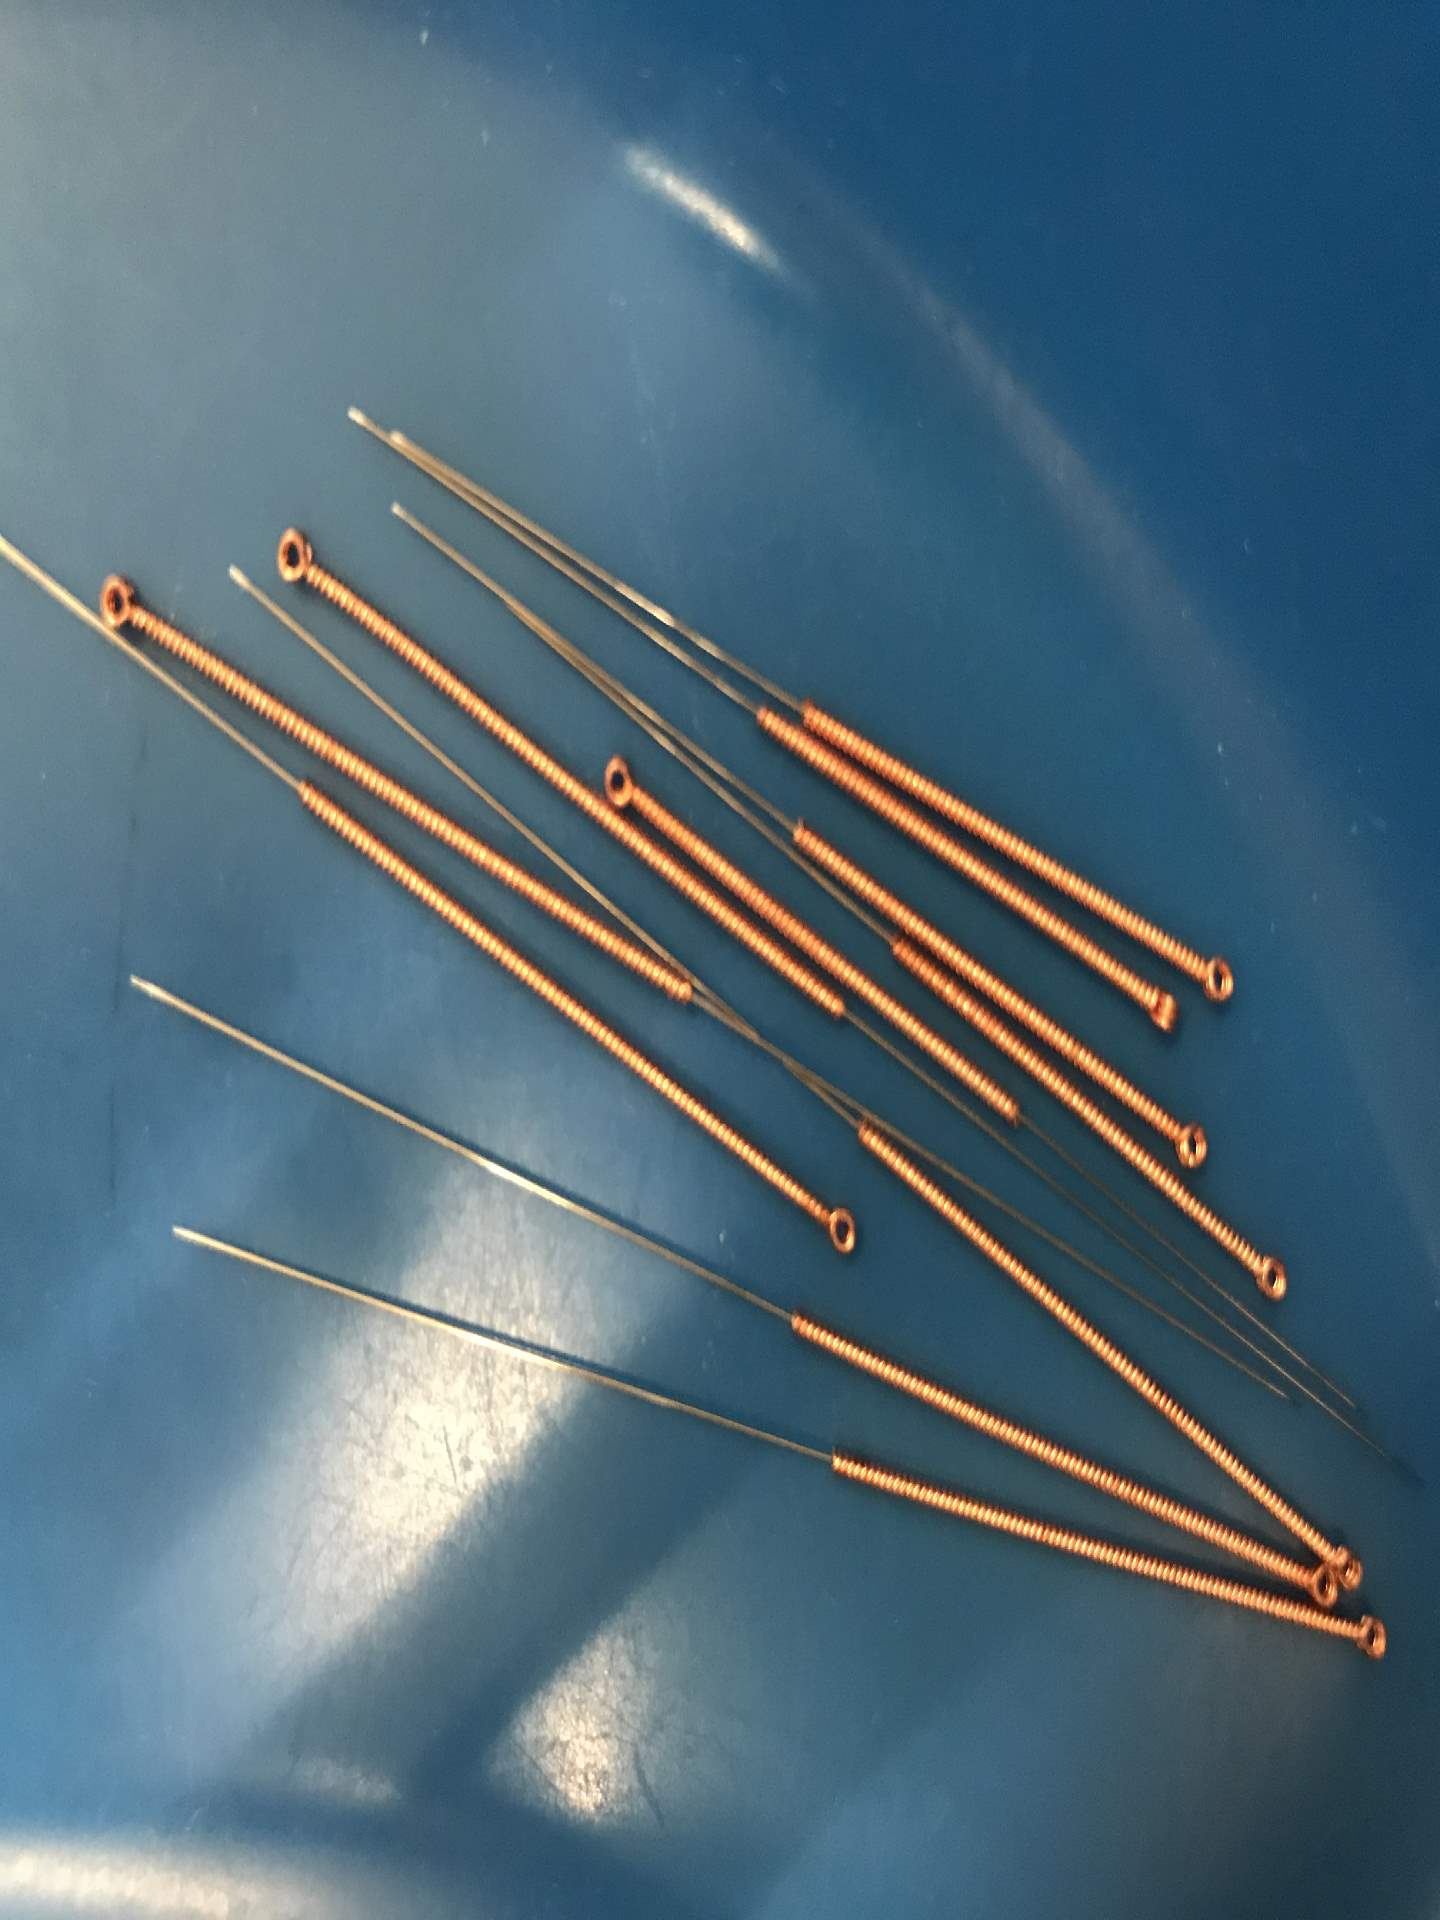needle: (73, 558, 160, 639), (256, 514, 331, 596), (799, 1191, 876, 1265), (1181, 936, 1246, 1014), (1125, 977, 1192, 1049), (1237, 1241, 1301, 1315), (1165, 1098, 1218, 1176), (597, 742, 653, 816), (1343, 1603, 1398, 1675), (1327, 1530, 1373, 1609), (1292, 1559, 1340, 1615)
